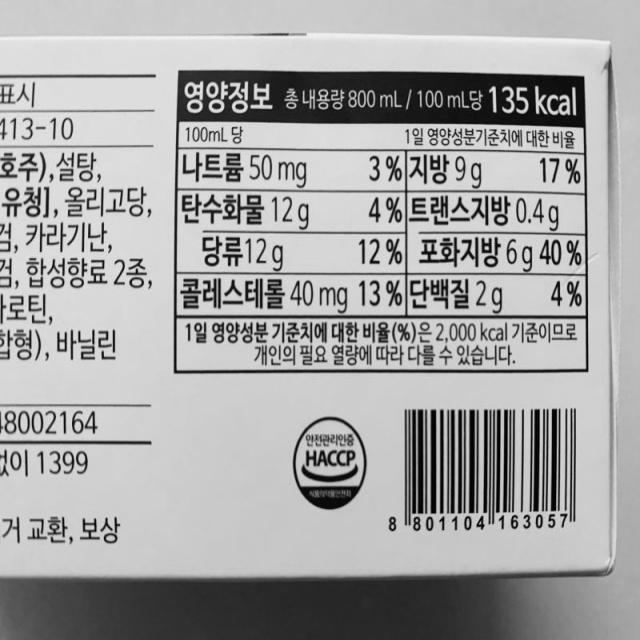Nutrition Label: (169, 64, 601, 388)
